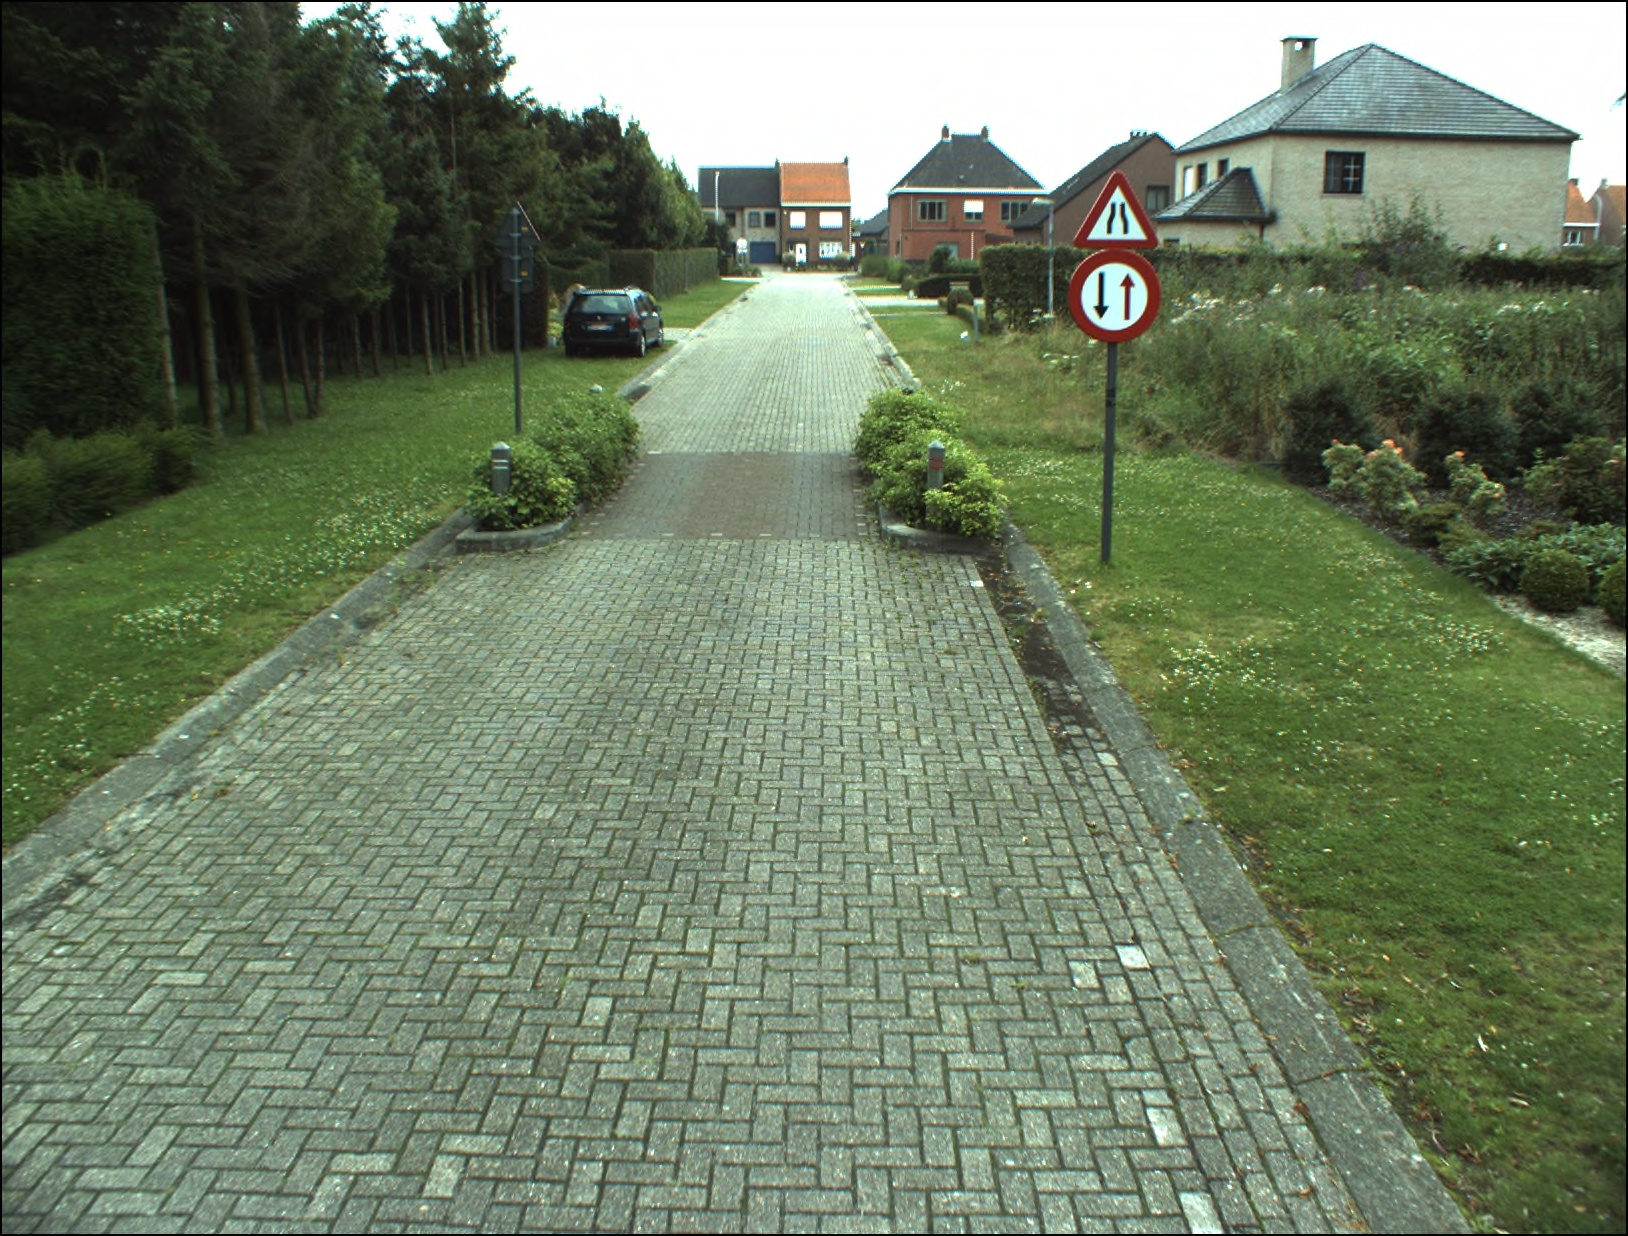roadnarrow2: (1070, 251, 1161, 343)
